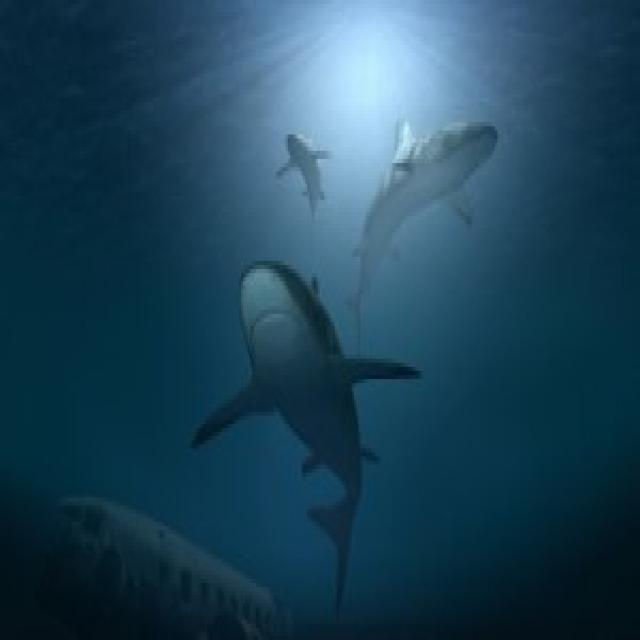Shark: (182, 262, 422, 640), (353, 100, 507, 338), (272, 115, 334, 246)
